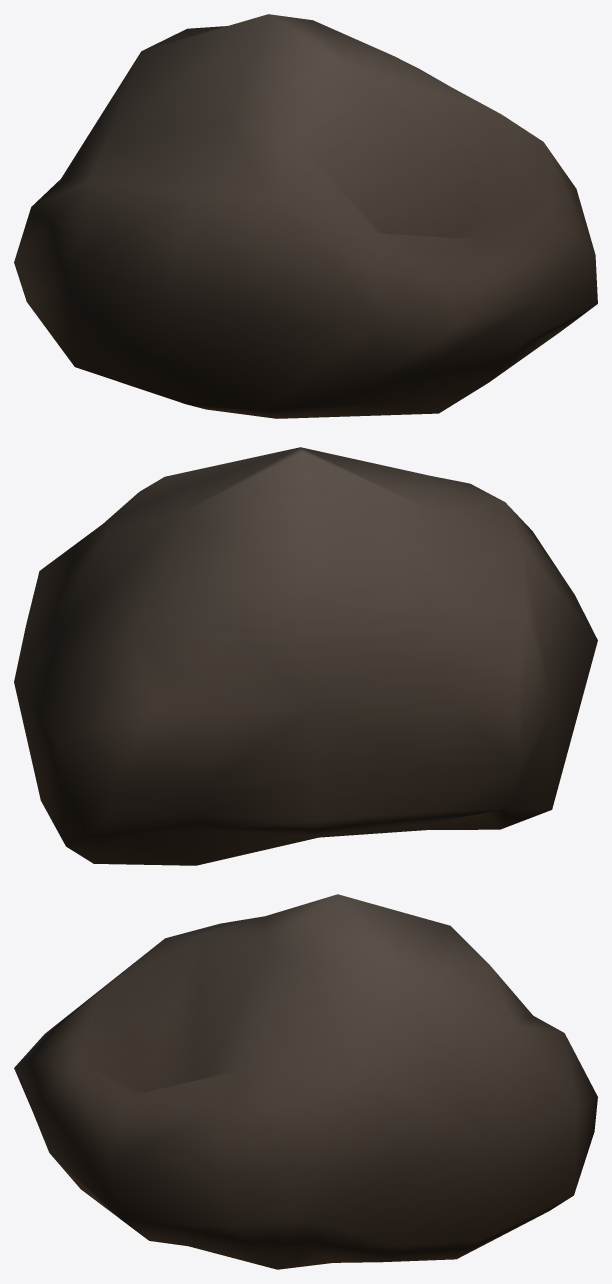
The model's file is roca3.fbx.
3 views of the same model, one above another, from view 1: azimuth 30°, elevation 25°; view 2: azimuth 150°, elevation 25°; view 3: azimuth 270°, elevation 25° (orthographic). The views are drawn at different scales.
Visible parts, largest first — view 1: roca3; view 2: roca3; view 3: roca3.
Part boxes in pixels (left/top/right/bottom): roca3: left=14, top=14, right=597, bottom=418; roca3: left=14, top=447, right=597, bottom=865; roca3: left=14, top=894, right=597, bottom=1269.
Bounding box in the file's own units: 76.71 × 52.88 × 87.75.
Materials: 1 (1 with a texture image).
